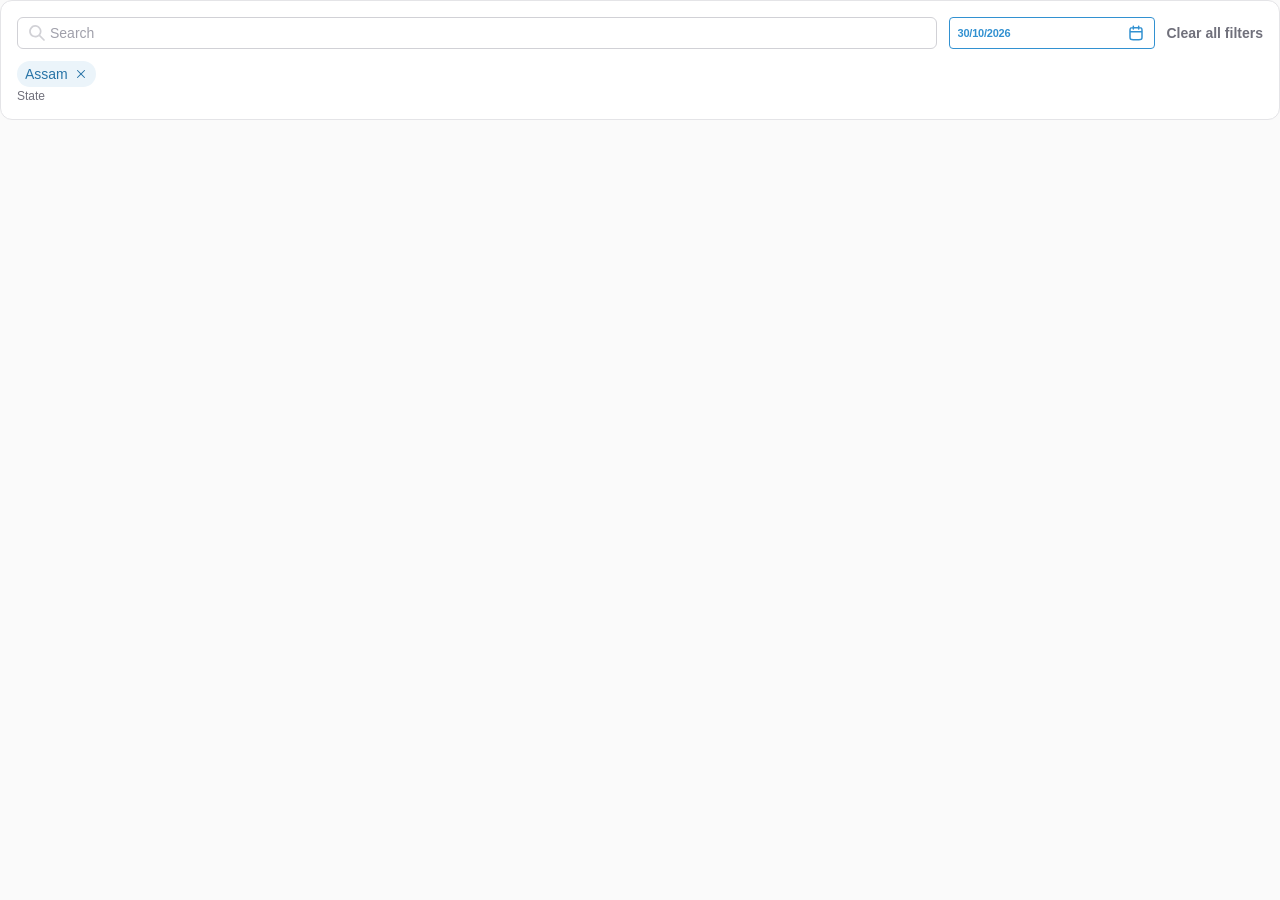
Test: DashboardFilters › advances departmental breadcrumb flow from zone to circle and back
Focus the field: {"x": 477, "y": 33} top-left (17, 17), bottom-right (936, 49)
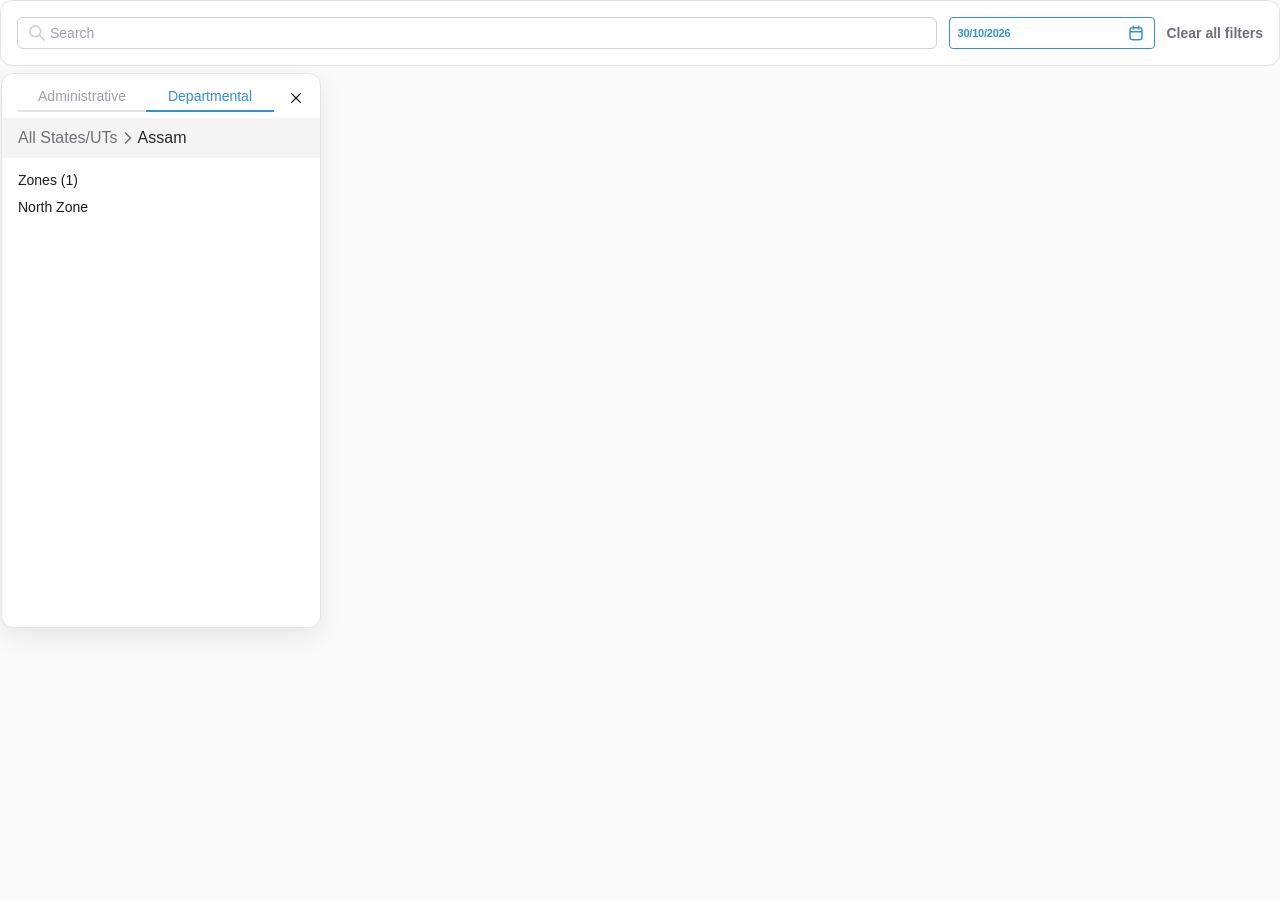
Now the text "Zones (1)" is shown, box top-left (18, 172), bottom-right (78, 188)
Click the button "North Zone": {"x": 118, "y": 207} top-left (18, 199), bottom-right (218, 216)
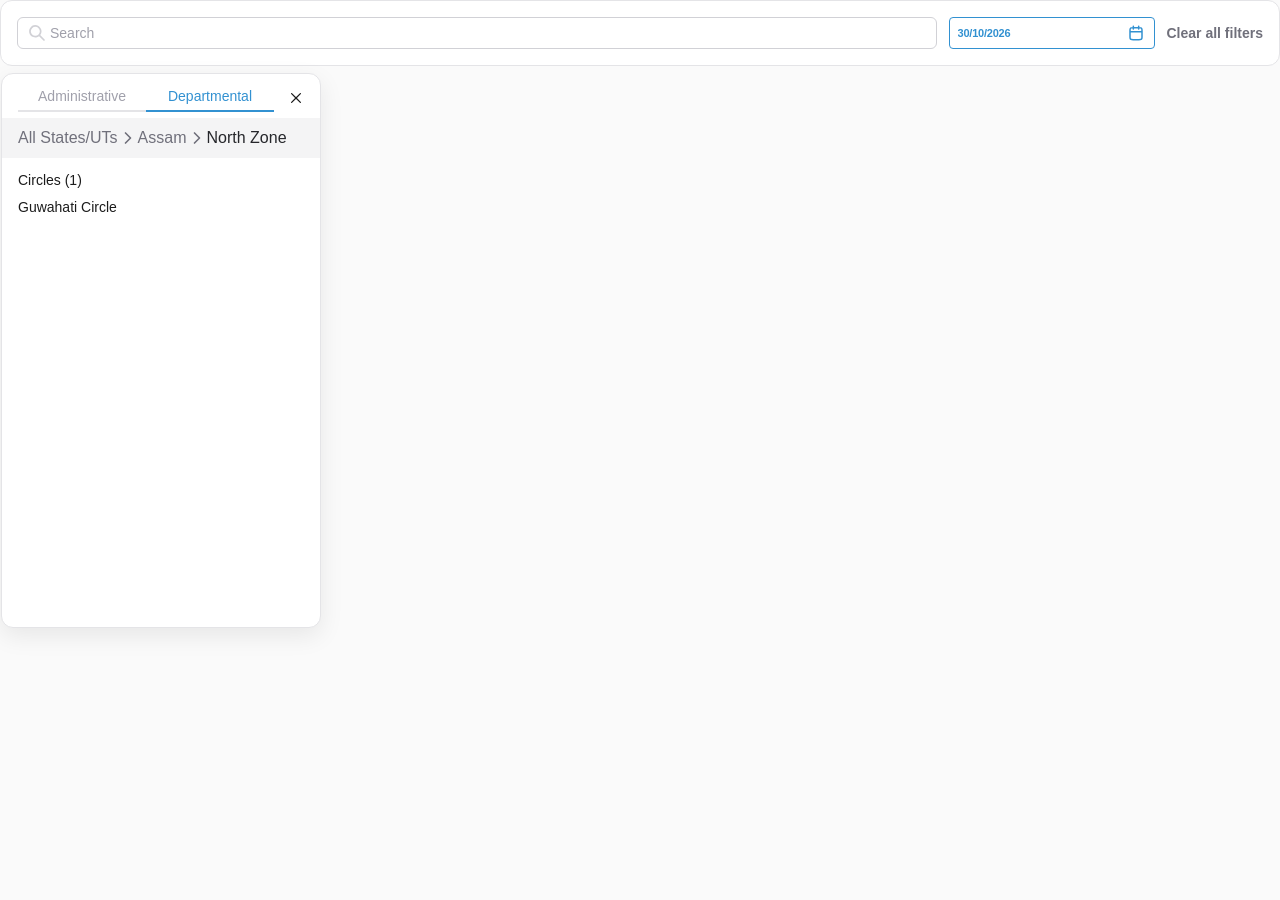
Focus the field: {"x": 477, "y": 33} top-left (17, 17), bottom-right (936, 49)
Now the text "Circles (1)" is shown, box top-left (18, 172), bottom-right (82, 188)
Now the text "Guwahati Circle" is shown, box top-left (18, 199), bottom-right (117, 215)
Now the button "North Zone" is shown, box top-left (206, 126), bottom-right (286, 150)
Click the button with aria-label "Breadcrumb: Assam": {"x": 162, "y": 138} top-left (138, 126), bottom-right (186, 150)
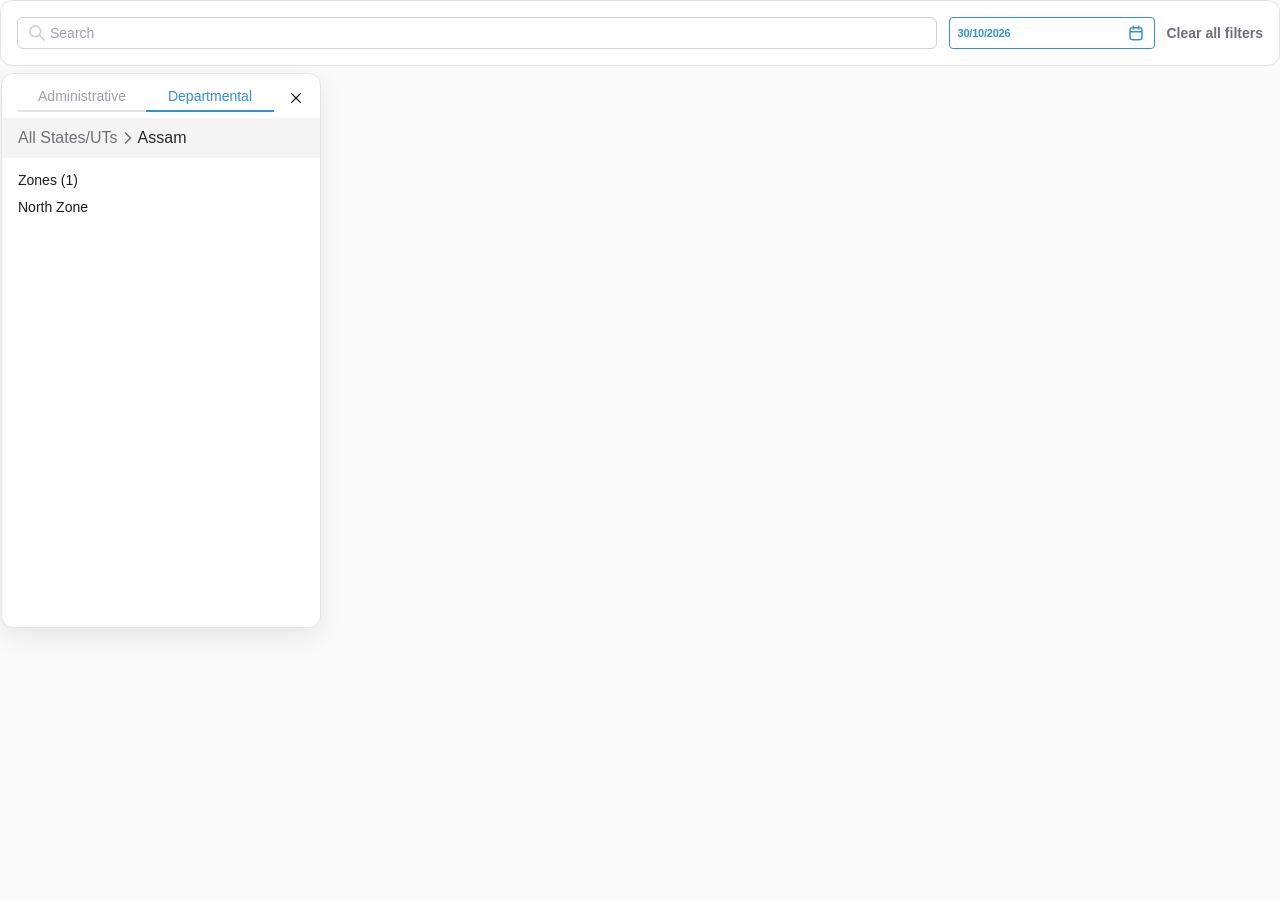
Now the text "Zones (1)" is shown, box top-left (18, 172), bottom-right (78, 188)
Now the text "Circles" is gone
